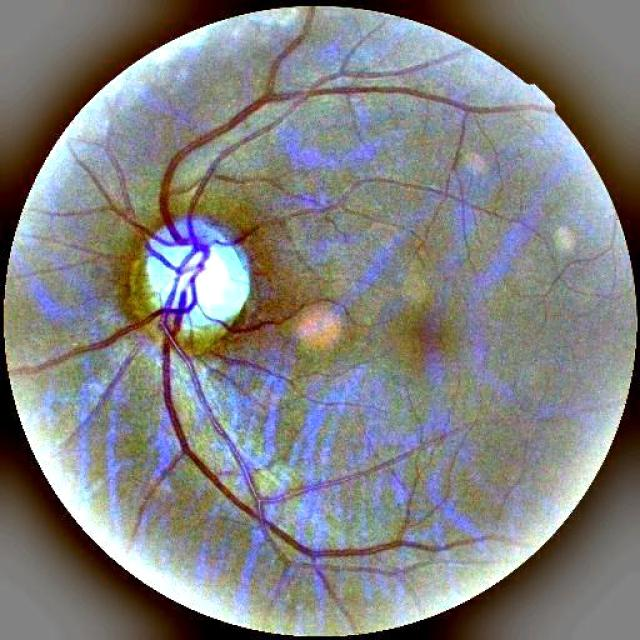Optic Disk: (141, 224, 249, 331)
